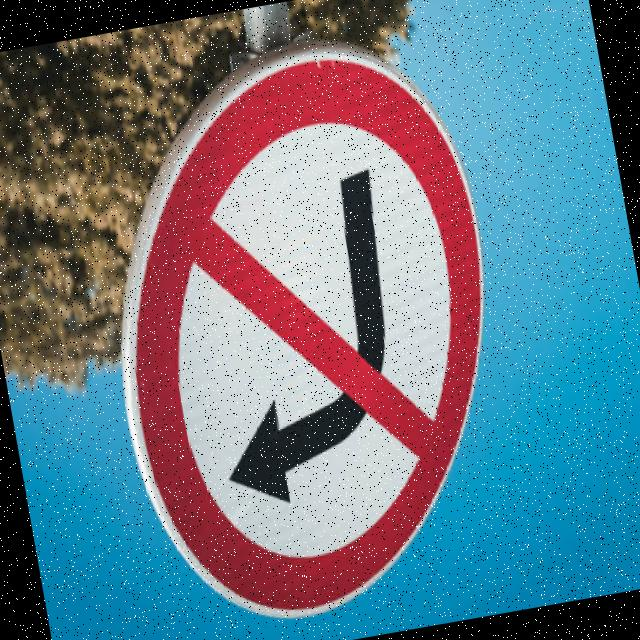do_not_turn_right: (72, 8, 560, 640)
